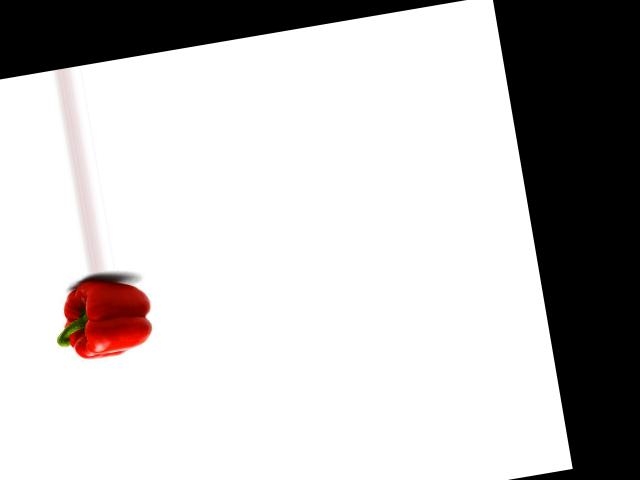bell_pepper: (42, 271, 165, 365)
